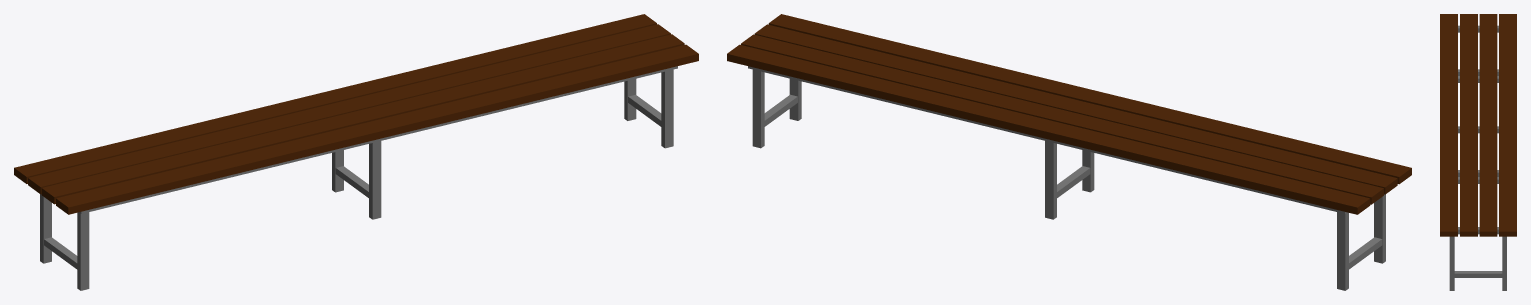
Rendered from Bench.fbx.
The picture shows the model from 3 angles, left to right: view 1: azimuth 30°, elevation 25°; view 2: azimuth 150°, elevation 25°; view 3: azimuth 270°, elevation 25°; orthographic projection. The views are drawn at different scales.
Parts seen in each view (by area): view 1: Seating, Legs; view 2: Seating, Legs; view 3: Seating, Legs.
Part boxes in pixels (left/top/right/bottom): Seating: left=14, top=14, right=698, bottom=214; Legs: left=40, top=66, right=677, bottom=290; Seating: left=727, top=14, right=1411, bottom=214; Legs: left=748, top=66, right=1385, bottom=290; Seating: left=1440, top=14, right=1516, bottom=236; Legs: left=1449, top=25, right=1506, bottom=290.
Bounding box in the file's own units: 646 × 91.1 × 96.44.
